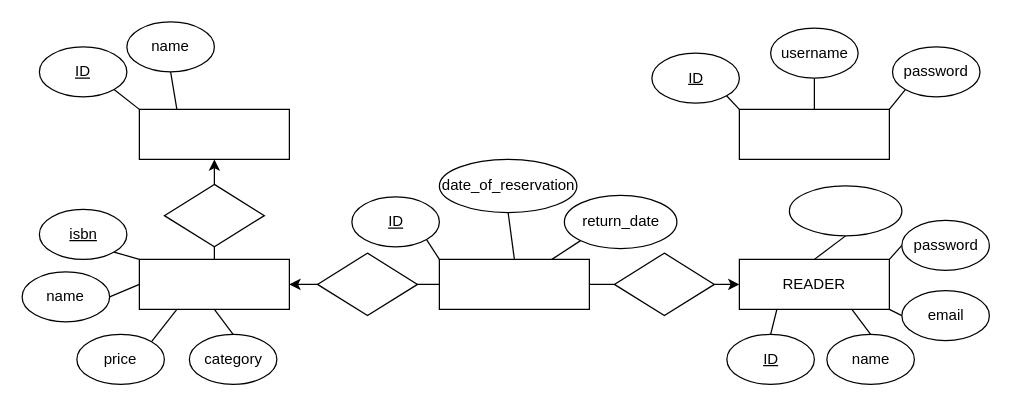
The diagram is 1011 pixels wide and 406 high, and some of its shapes have lost their labels. The shapes that lost their labels are listed below. From the top down, each one's box as (x1, y1, x2, y2) in pixels, then its label:
(138, 108, 289, 159): AUTHOR
(738, 108, 889, 159): EMPLOYEE
(788, 185, 902, 236): phone_number
(138, 258, 289, 309): BOOK
(438, 258, 589, 309): RESERVATION
